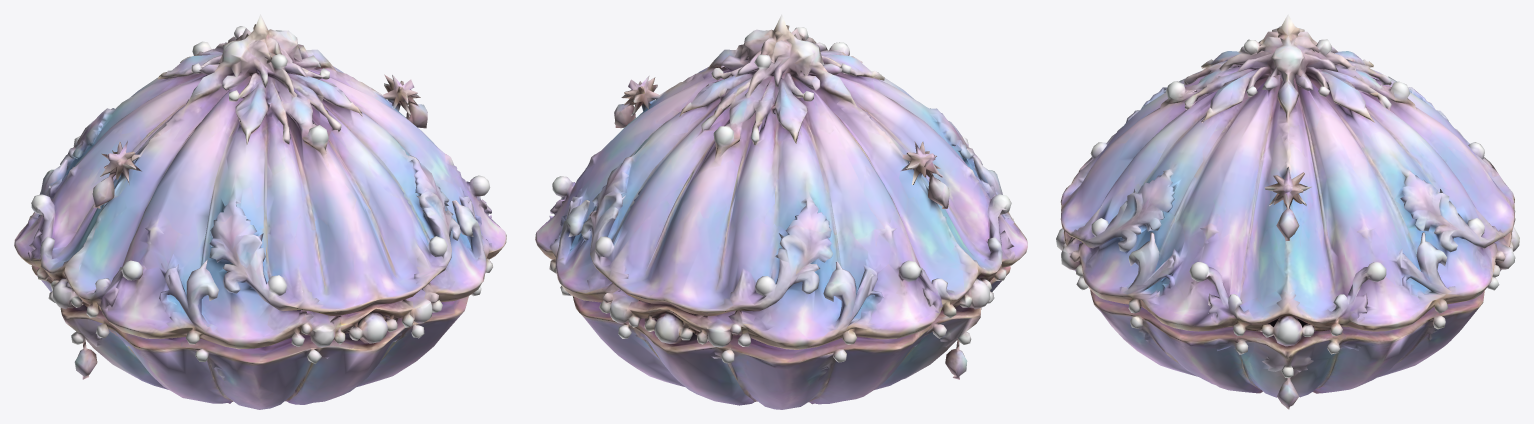
File: shell.glb
3 renders of one model, left to right at view 1: azimuth 30°, elevation 25°; view 2: azimuth 150°, elevation 25°; view 3: azimuth 270°, elevation 25°, orthographic. The views are drawn at different scales.
Visible parts, largest first — view 1: tripo_node_5eec2d6a-fbe3-42d6-89d8-03ebedfa5dc0; view 2: tripo_node_5eec2d6a-fbe3-42d6-89d8-03ebedfa5dc0; view 3: tripo_node_5eec2d6a-fbe3-42d6-89d8-03ebedfa5dc0.
Boxes of the visible parts, bbox=[...] form: tripo_node_5eec2d6a-fbe3-42d6-89d8-03ebedfa5dc0: bbox=[14, 14, 506, 409]; tripo_node_5eec2d6a-fbe3-42d6-89d8-03ebedfa5dc0: bbox=[535, 14, 1027, 409]; tripo_node_5eec2d6a-fbe3-42d6-89d8-03ebedfa5dc0: bbox=[1056, 14, 1519, 409].
Size of the model in its own units: 0.9961 by 0.8475 by 1.
Materials: 1 (1 with a texture image).
